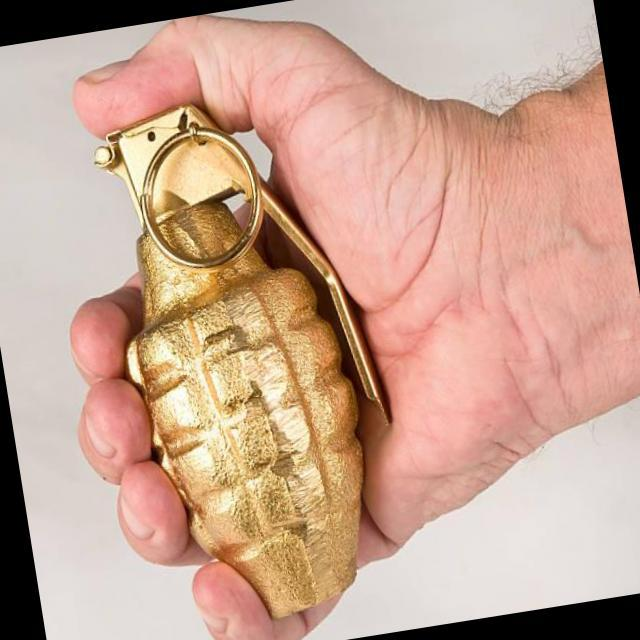grenade: (76, 62, 428, 640)
